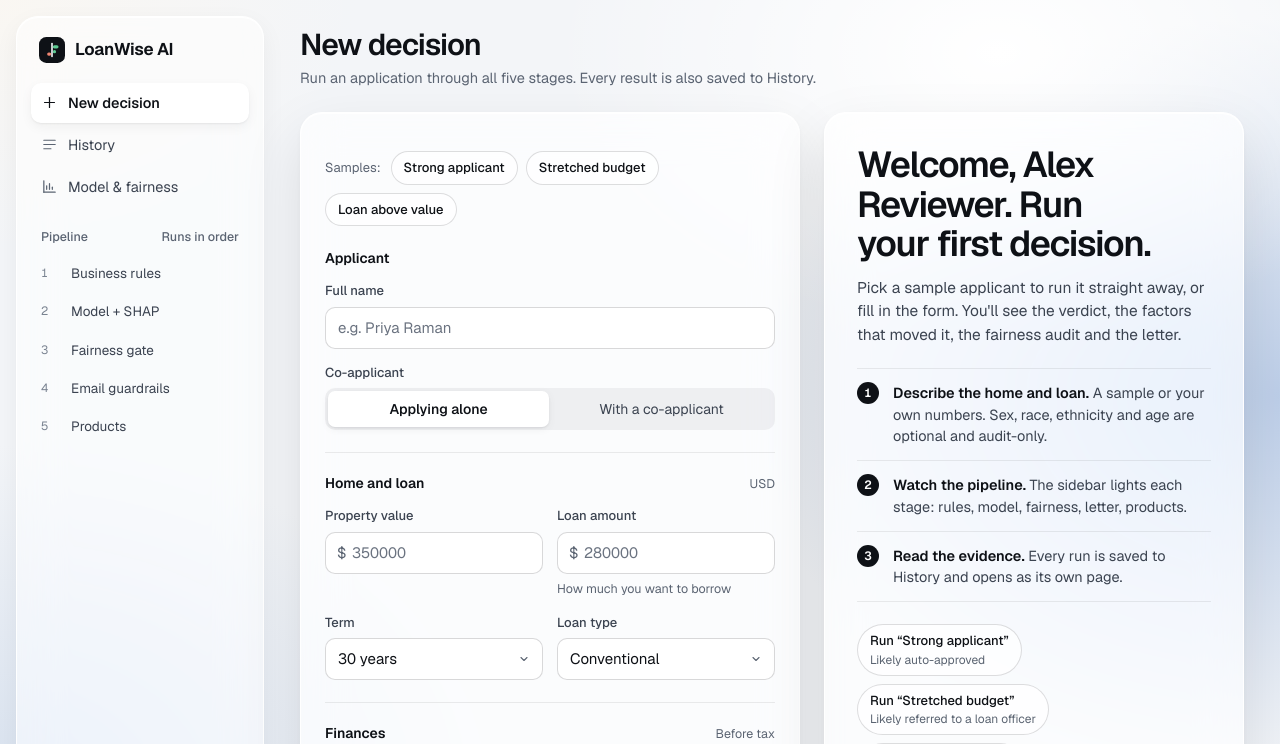
Test case: New decision › runs a sample and shows the result, lighting the deciding stage
Click the button "Run “Strong applicant” Likely auto-approved".
click(939, 650)  # box [857,624,1022,676]
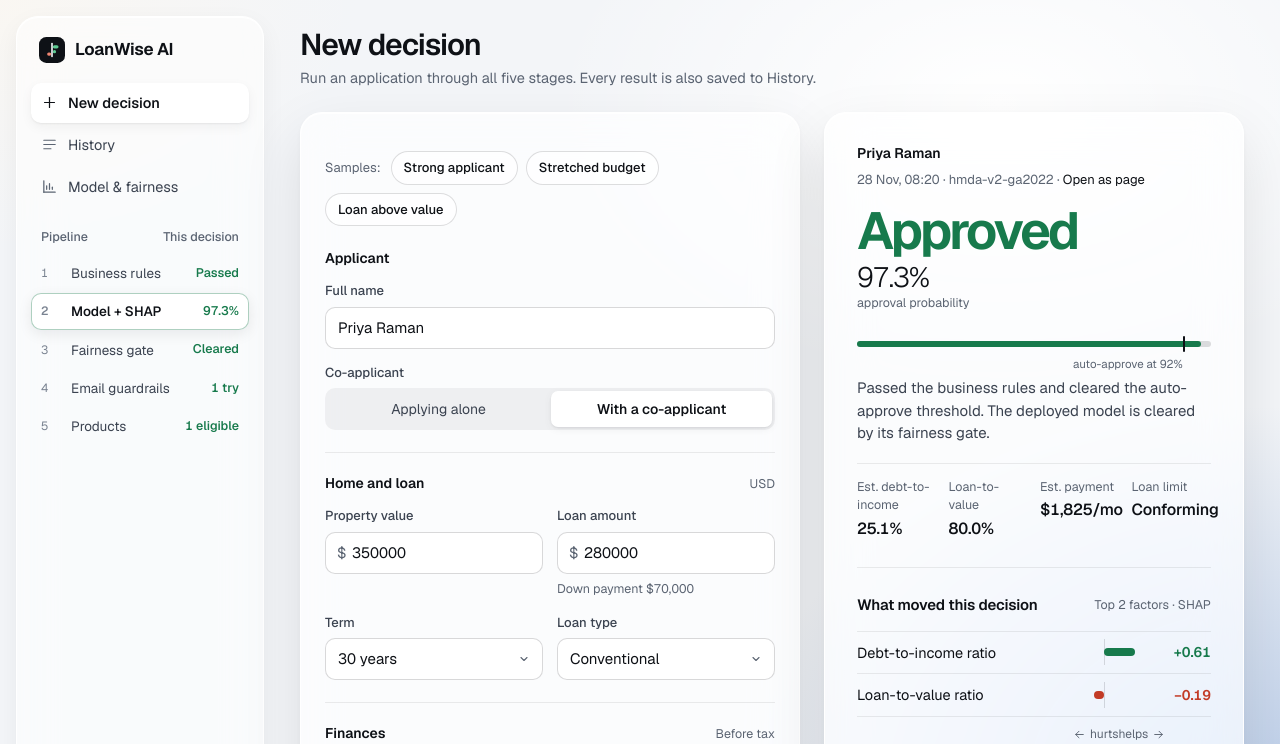
Expected: the list item "2 Model + SHAP 97.3%" is shown, [31,293,249,330]
Now the heading "Approved" is shown, box [857,208,1078,255]
